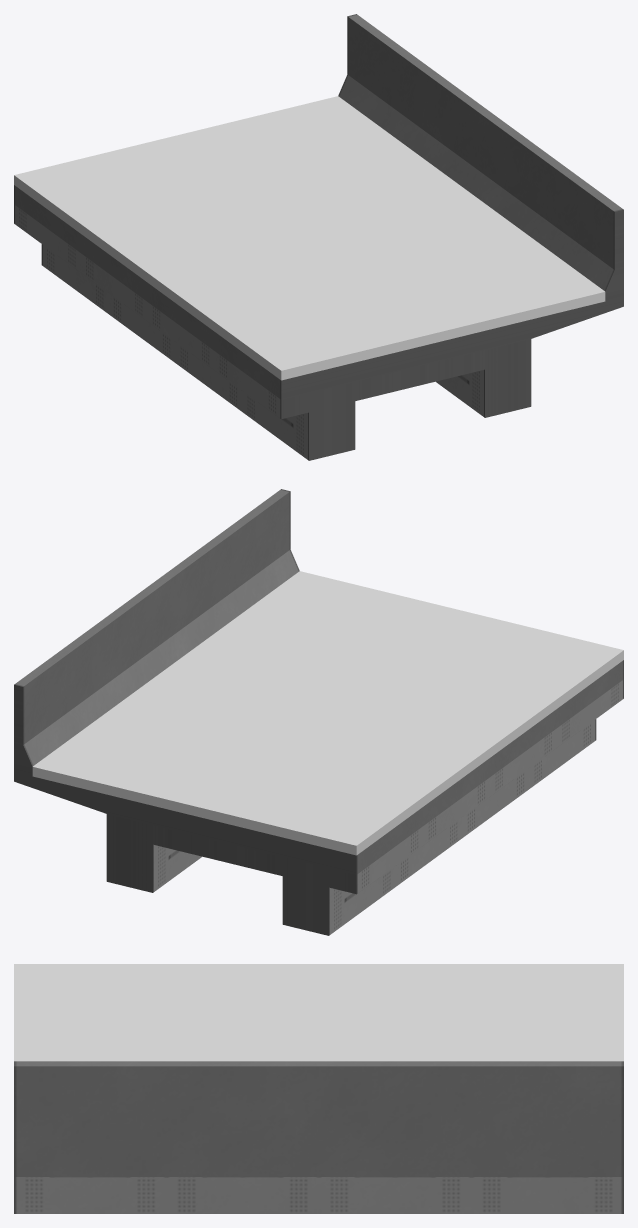
Rendered from 【組立式】高速道路(左一車線)_W3.5m×D5m×H0.1m.fbx.
The picture shows the model from 3 angles, top to bottom: view 1: azimuth 30°, elevation 25°; view 2: azimuth 150°, elevation 25°; view 3: azimuth 270°, elevation 25°; orthographic projection. The views are drawn at different scales.
Parts seen in each view (by area): view 1: Road, Wall; view 2: Road, Wall; view 3: Wall, Road.
Part boxes in pixels (x1=…): Road: x1=14, y1=96, x2=605, y2=380; Wall: x1=14, y1=14, x2=623, y2=460; Road: x1=32, y1=571, x2=623, y2=855; Wall: x1=14, y1=489, x2=623, y2=935; Wall: x1=14, y1=1061, x2=623, y2=1213; Road: x1=14, y1=964, x2=623, y2=1061.
Size of the model in its own units: 3.7 by 1.8 by 5.
